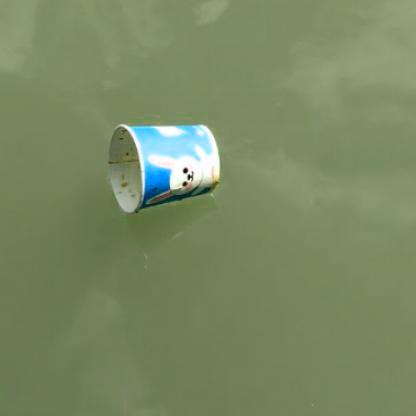Plastic: (102, 116, 222, 211)
